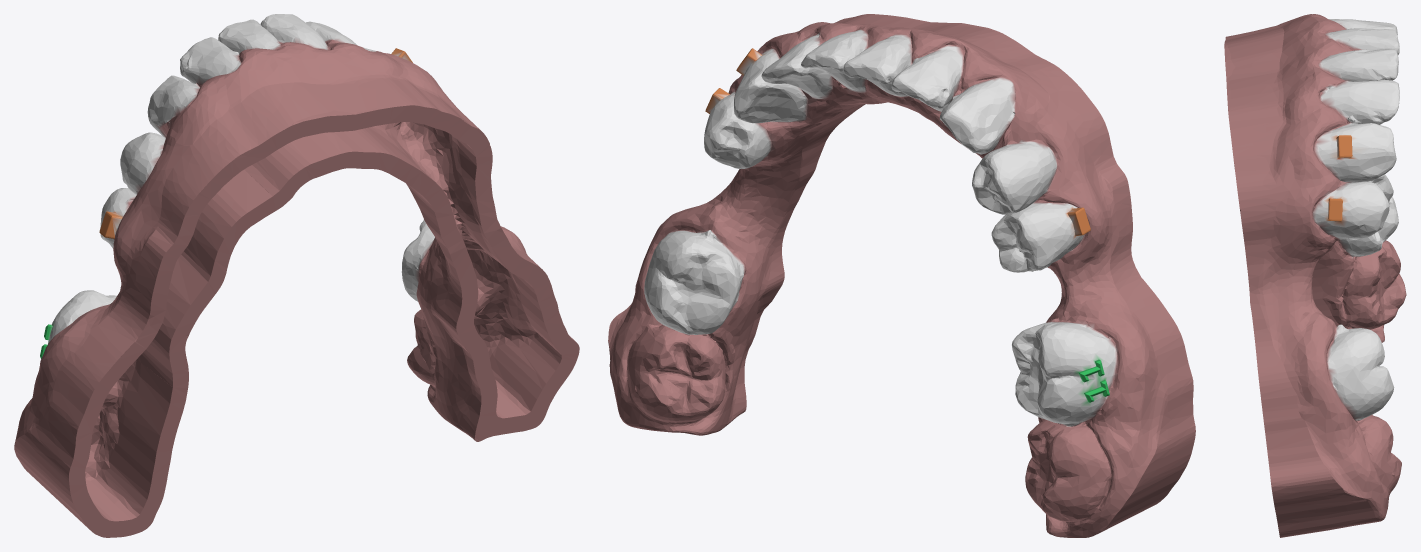
The model's file is lower-model-11.glb.
3 views of the same model, side by side, from view 1: azimuth 30°, elevation 25°; view 2: azimuth 150°, elevation 25°; view 3: azimuth 270°, elevation 25° (orthographic). The views are drawn at different scales.
Parts seen in each view (by area): view 1: 11 (1); view 2: 11 (1); view 3: 11 (1).
Part boxes in pixels (bbox=[...]): 11 (1): bbox=[14, 14, 579, 537]; 11 (1): bbox=[608, 14, 1195, 537]; 11 (1): bbox=[1224, 14, 1406, 537].
Size of the model in its own units: 64.23 by 50.61 by 20.71.
